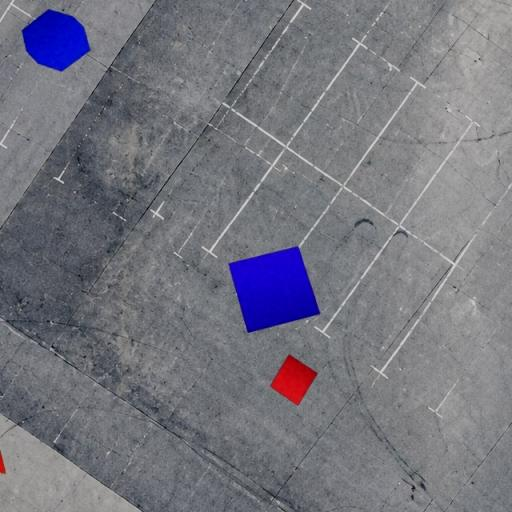BLUE_SQUARE: (227, 246, 322, 334)
RED_SQUARE: (270, 354, 318, 406)
